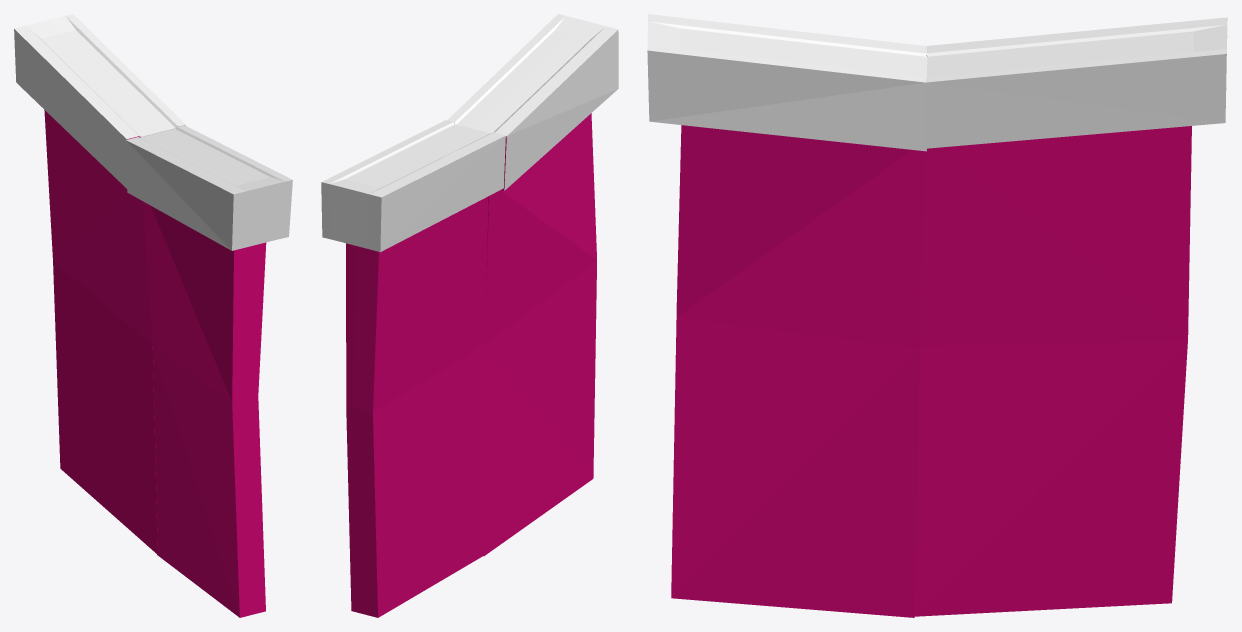
File: Skirt_Pink.fbx
3 renders of one model, left to right at view 1: azimuth 30°, elevation 25°; view 2: azimuth 150°, elevation 25°; view 3: azimuth 270°, elevation 25°, orthographic. The views are drawn at different scales.
Parts seen in each view (by area): view 1: Plane.008; view 2: Plane.008; view 3: Plane.008.
Part boxes in pixels (left/top/right/bottom): Plane.008: left=14, top=14, right=292, bottom=617; Plane.008: left=321, top=14, right=618, bottom=617; Plane.008: left=647, top=14, right=1227, bottom=617.
Size of the model in its own units: 27.31 by 177 by 163.
